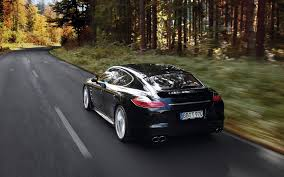car: (79, 60, 227, 146)
